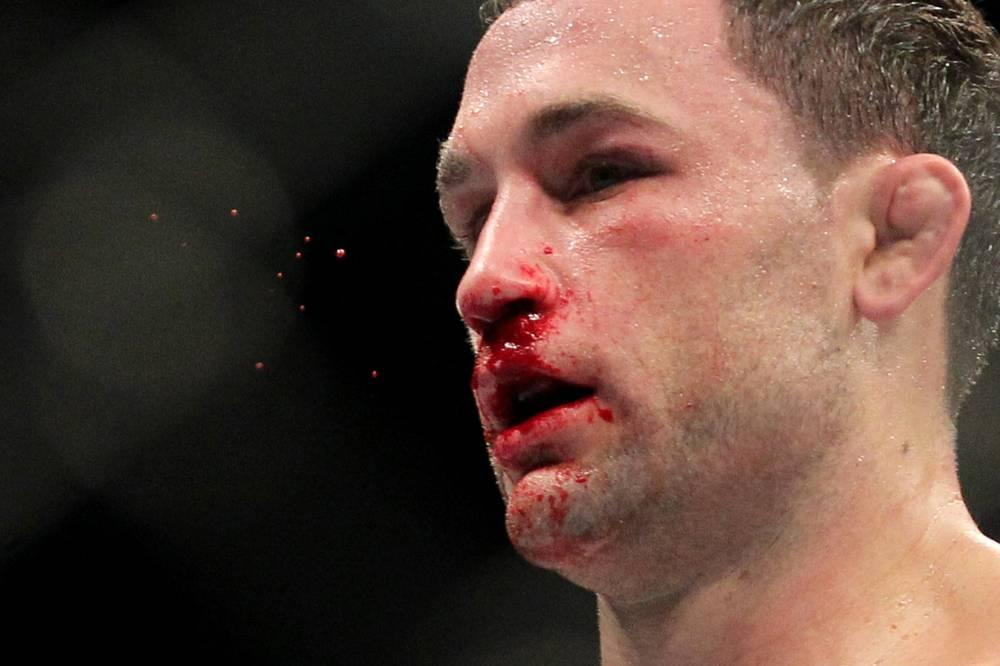Fire: (458, 263, 615, 532)
